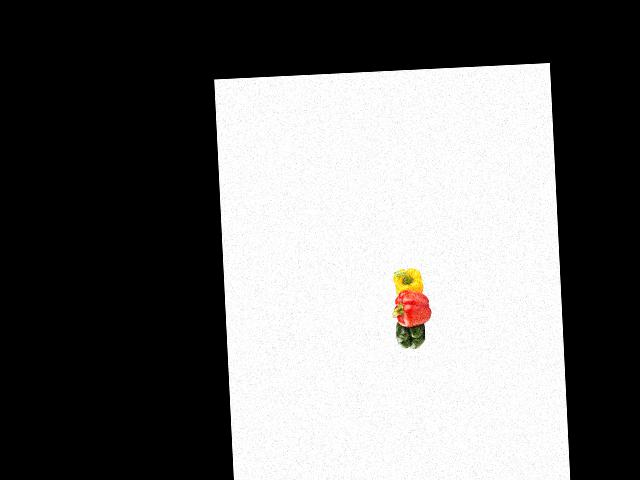bell_pepper: (389, 265, 429, 297)
